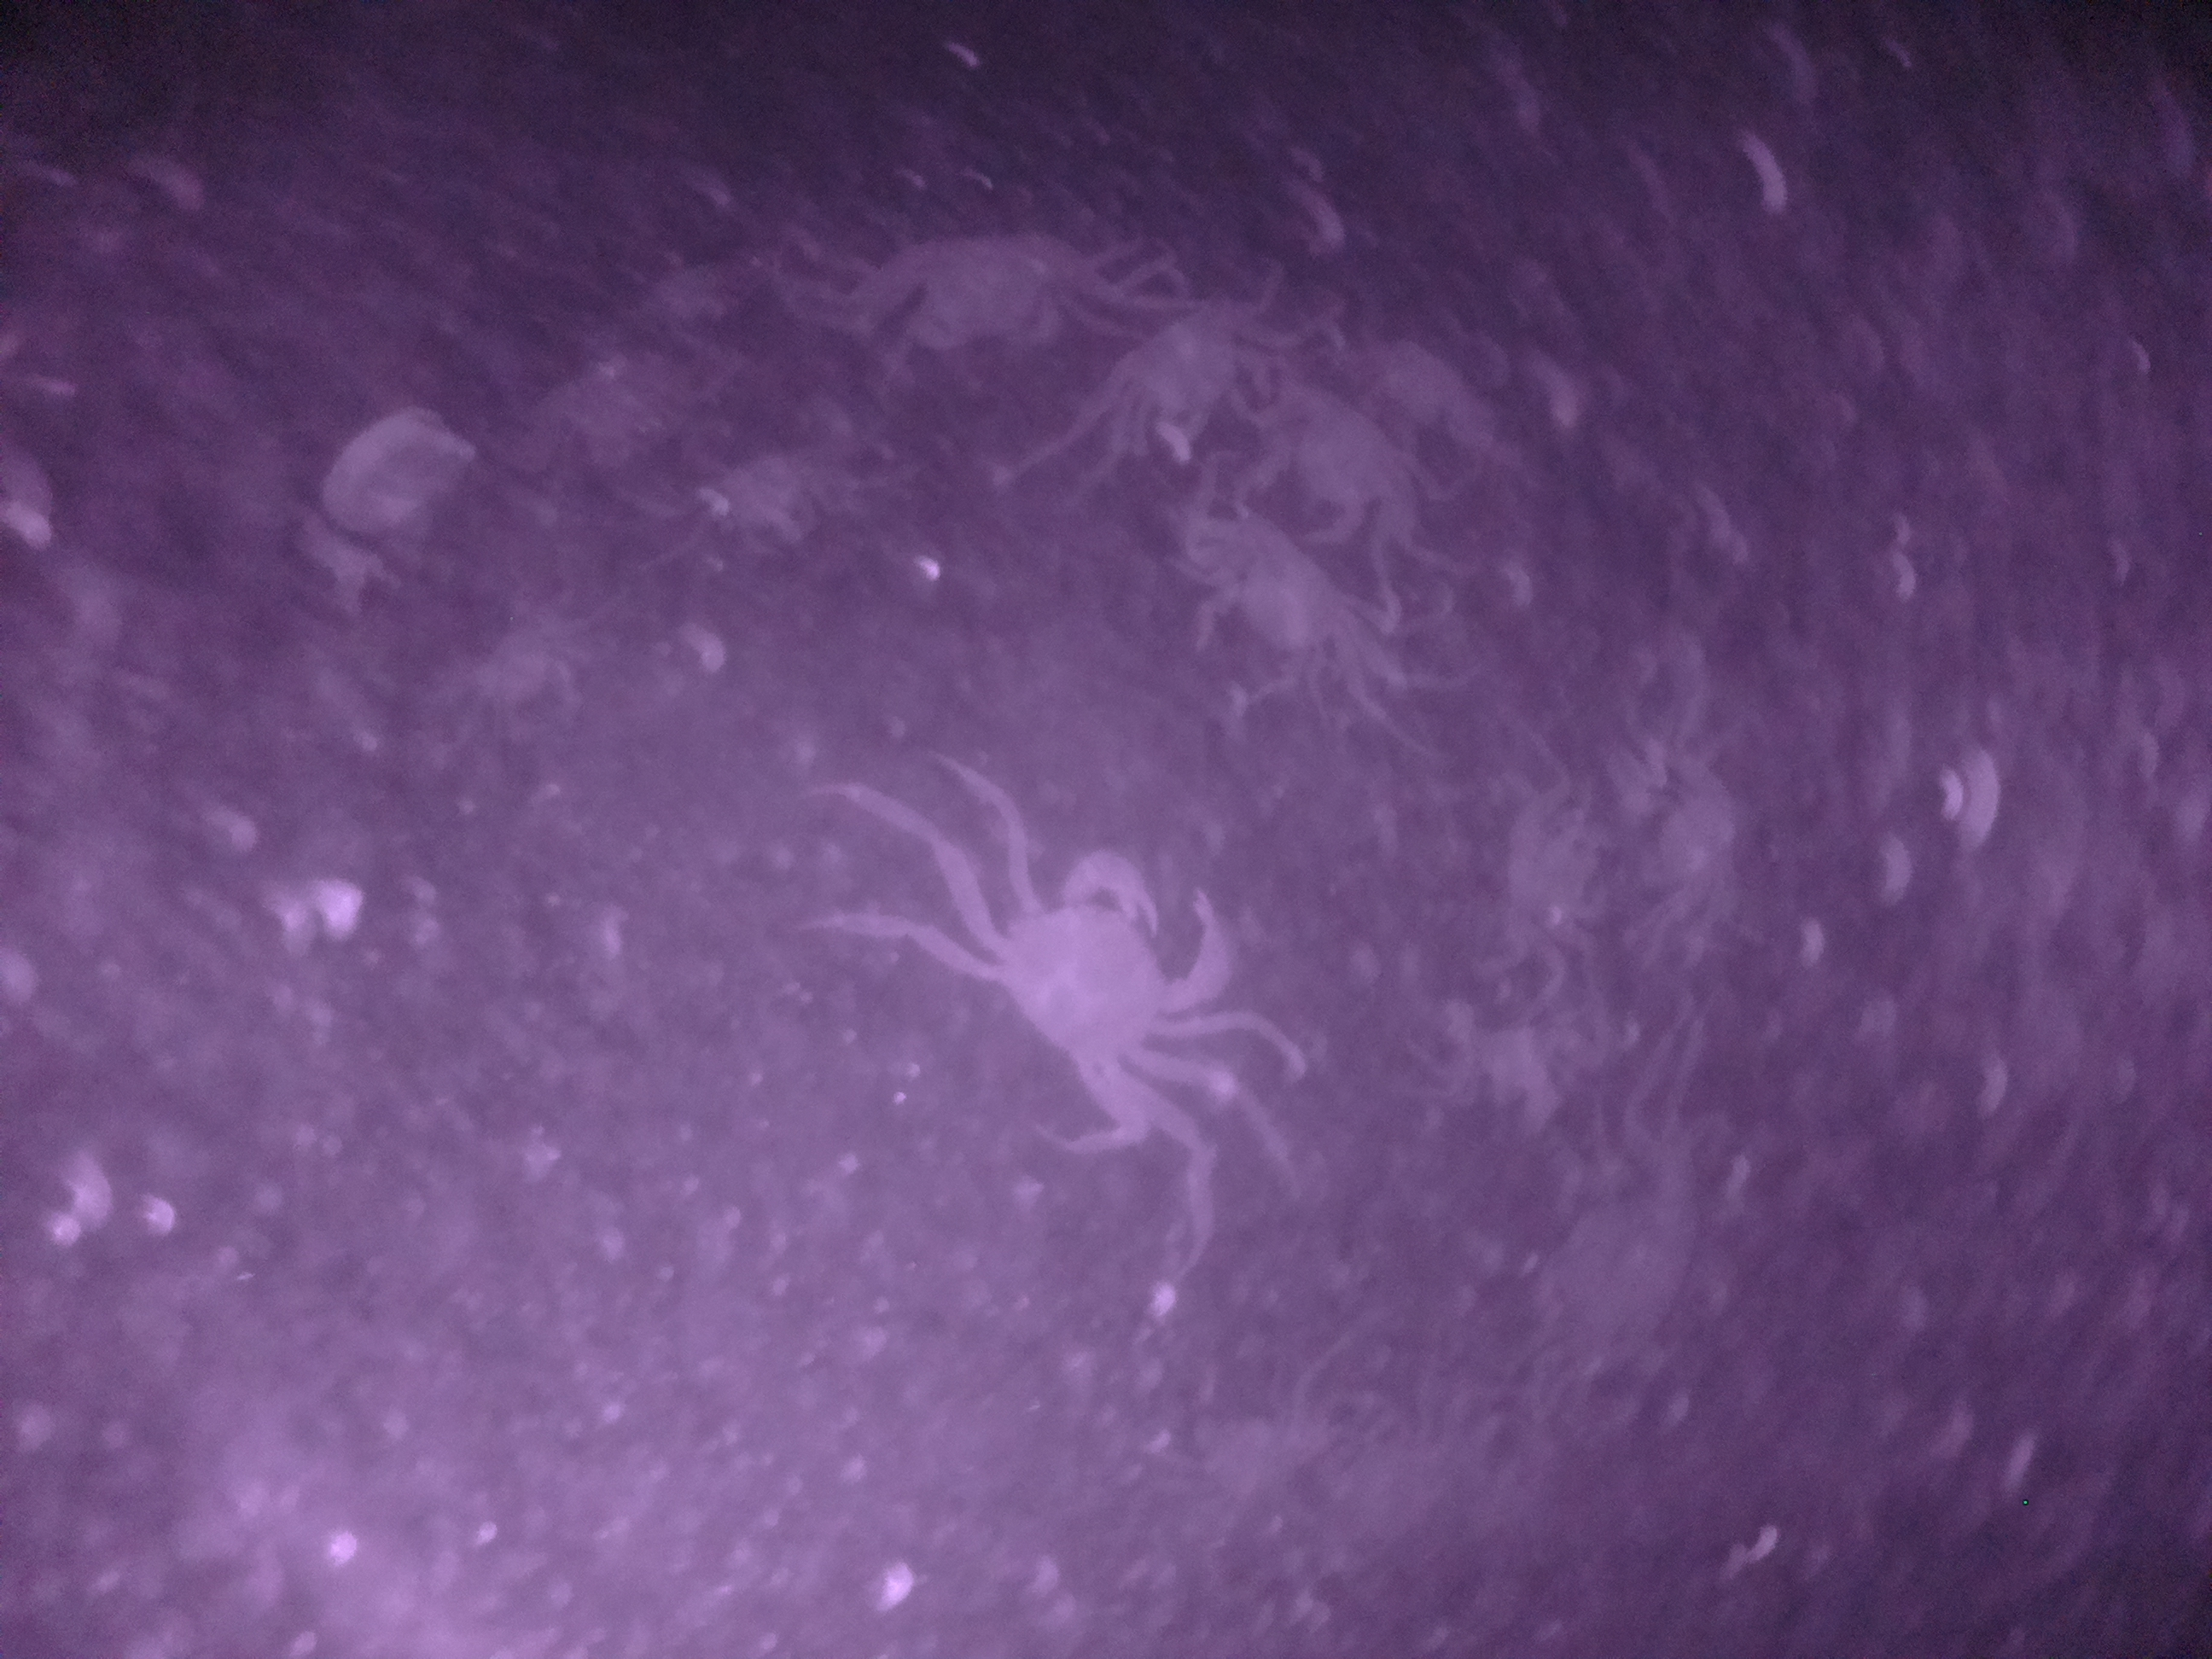Crab: (958, 824, 1252, 1141), (1181, 528, 1409, 739), (1092, 277, 1268, 457), (1252, 366, 1413, 563), (864, 218, 1082, 359)
